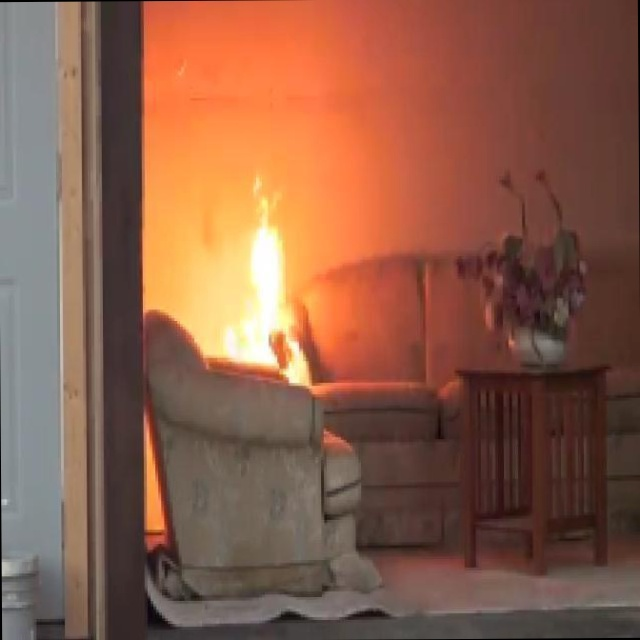fire: (210, 174, 307, 374)
